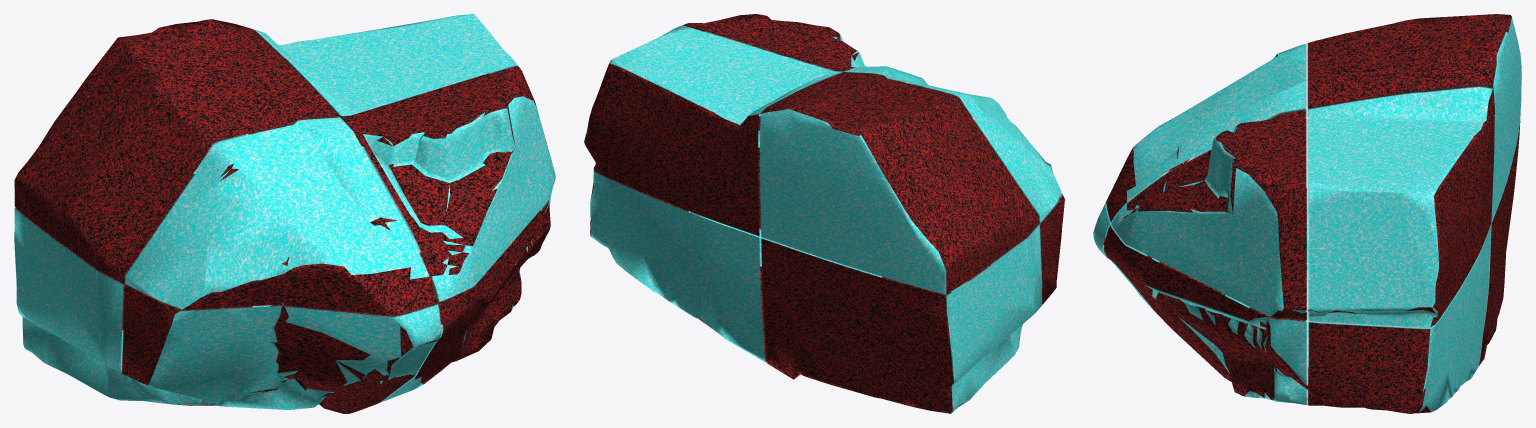
The picture shows the model from 3 angles, left to right: view 1: azimuth 30°, elevation 25°; view 2: azimuth 150°, elevation 25°; view 3: azimuth 270°, elevation 25°; orthographic projection. The views are drawn at different scales.
Visible parts, largest first — view 1: SM_Cliff_Top_03_Col_LOD0; view 2: SM_Cliff_Top_03_Col_LOD0; view 3: SM_Cliff_Top_03_Col_LOD0.
Part boxes in pixels (box(x1,y1,x2,y2)): SM_Cliff_Top_03_Col_LOD0: box(14, 14, 555, 413); SM_Cliff_Top_03_Col_LOD0: box(584, 14, 1064, 413); SM_Cliff_Top_03_Col_LOD0: box(1093, 14, 1521, 413).
Size of the model in its own units: 0.2332 by 0.1522 by 0.1935.
1 material, 1 textured.
